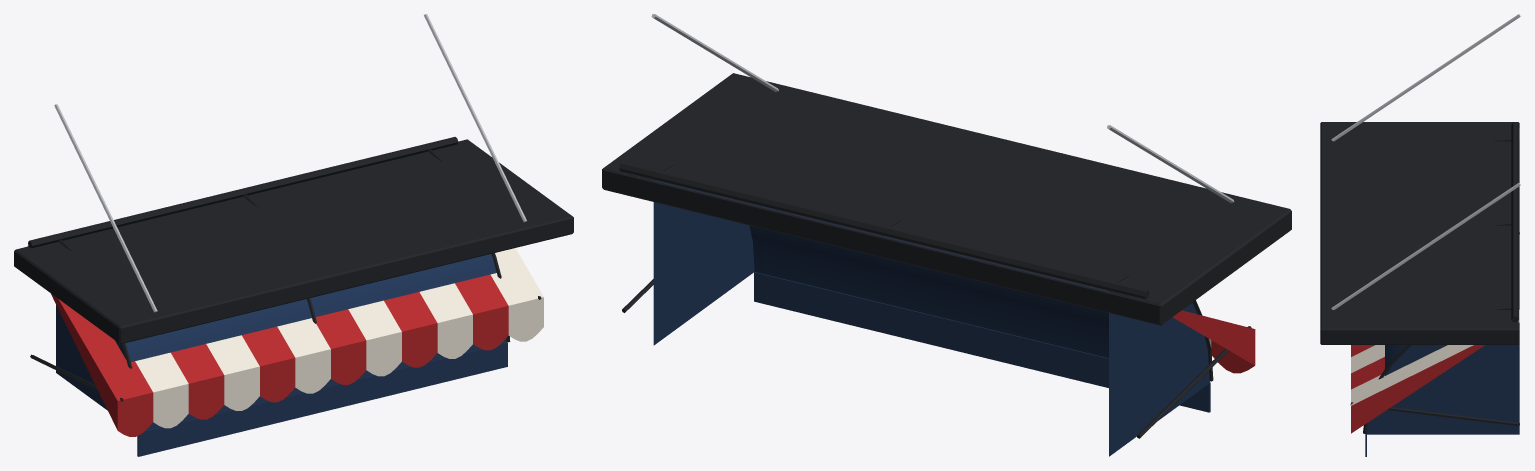
File: awnings.glb
3 views of the same model, side by side, from view 1: azimuth 30°, elevation 25°; view 2: azimuth 150°, elevation 25°; view 3: azimuth 270°, elevation 25° (orthographic). The views are drawn at different scales.
Parts seen in each view (by area): view 1: awning_flat_mesh, awning_striped_mesh, awning_dome_mesh; view 2: awning_flat_mesh, awning_dome_mesh, awning_striped_mesh; view 3: awning_flat_mesh, awning_dome_mesh, awning_striped_mesh.
Boxes of the visible parts, left/top/right/bottom form: awning_flat_mesh: left=14, top=14, right=573, bottom=344; awning_striped_mesh: left=27, top=137, right=543, bottom=436; awning_dome_mesh: left=56, top=149, right=510, bottom=456; awning_flat_mesh: left=602, top=14, right=1291, bottom=325; awning_dome_mesh: left=653, top=164, right=1213, bottom=456; awning_striped_mesh: left=619, top=161, right=1255, bottom=438; awning_flat_mesh: left=1320, top=14, right=1520, bottom=344; awning_dome_mesh: left=1363, top=138, right=1519, bottom=456; awning_striped_mesh: left=1350, top=122, right=1519, bottom=433.
Bounding box in the file's own units: 3.2 × 1.97 × 1.31.
